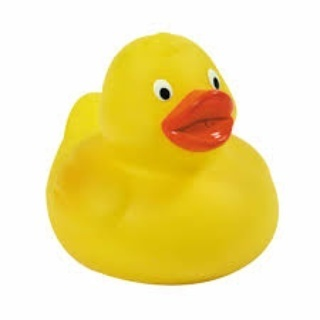duck_regular: (48, 31, 282, 281)
